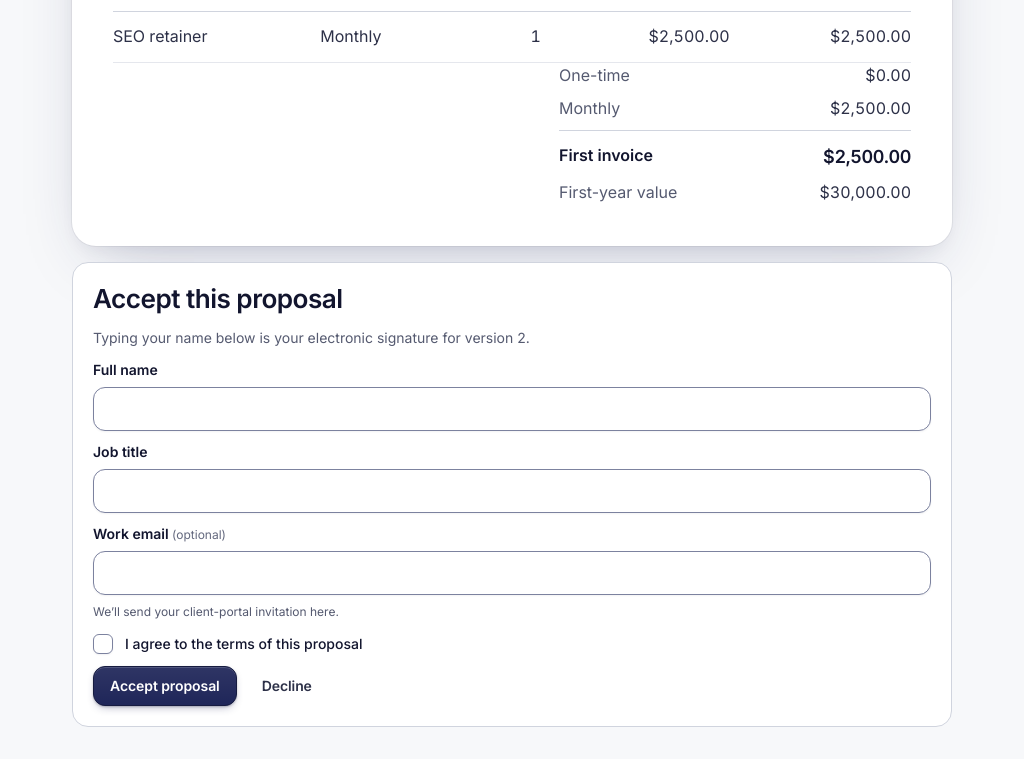
Scenario: Public proposal page › validates the typed signature and terms before sending, then accepts
(page scrolled)
Click the button "Accept proposal" at (165, 686), box [93, 666, 237, 706]
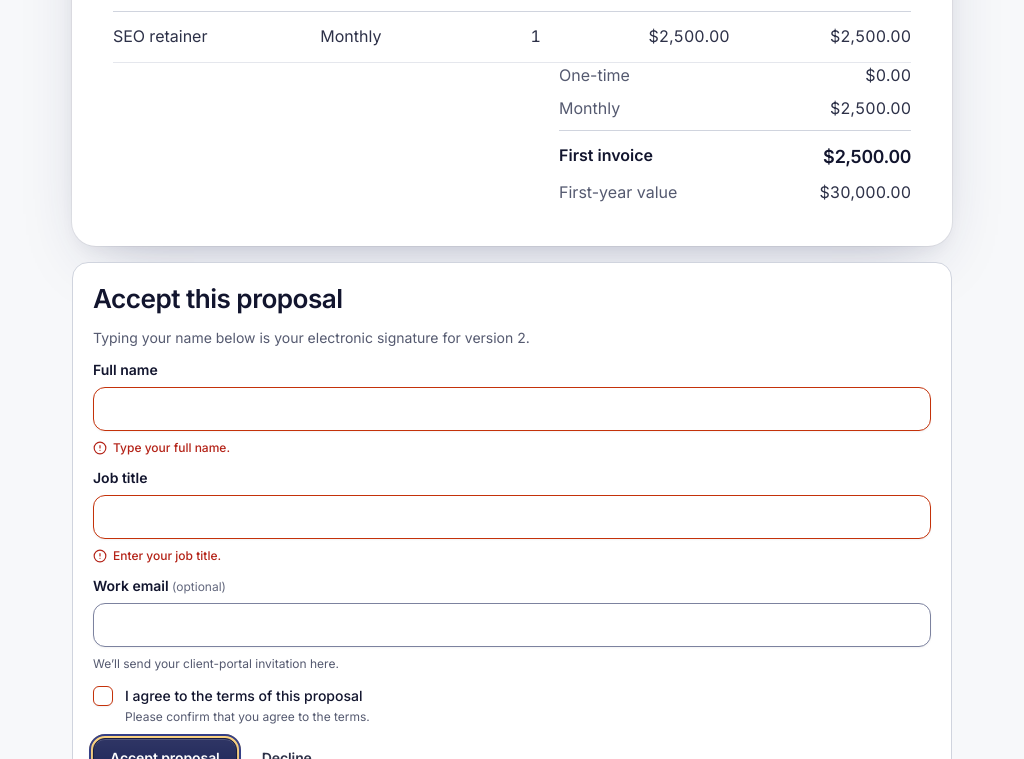
Check: the text "Type your full name." is shown, box [113, 439, 230, 457]
Check: the text "Enter your job title." is shown, box [113, 547, 221, 565]
Check: the text "Please confirm that you agree to the terms." is shown, box [125, 708, 370, 726]
Type "Rachel Nguyen" into the field labelled "Full name" at (512, 409), box [93, 387, 931, 431]
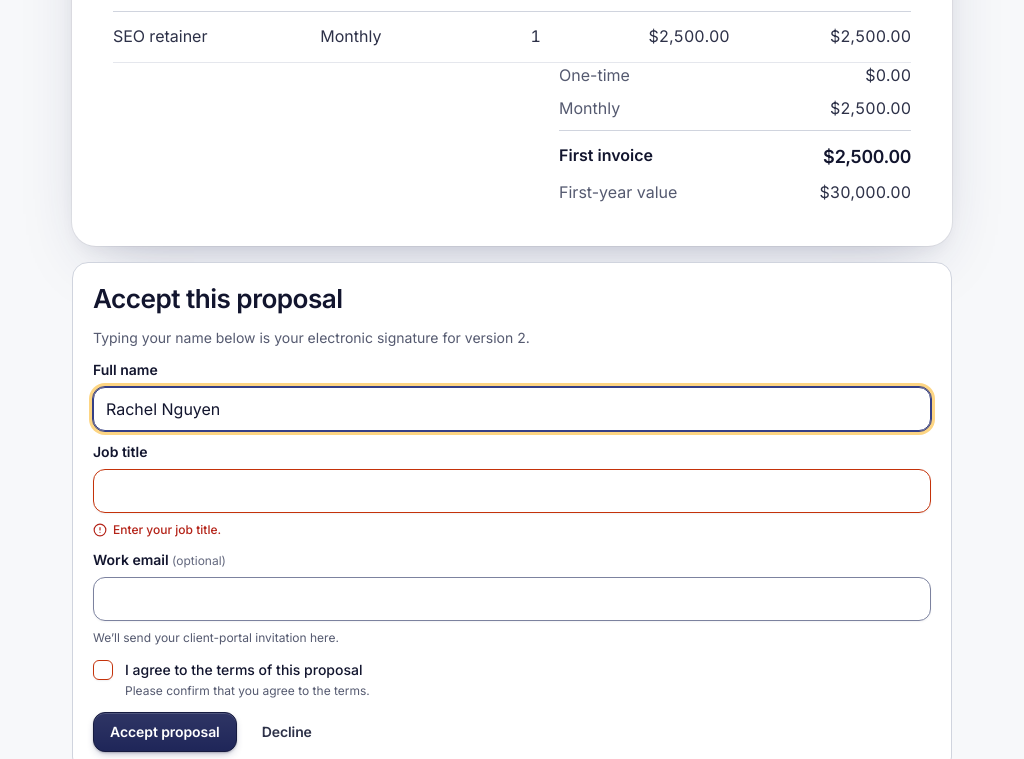
Type "Practice Manager" into the field labelled "Job title" at (512, 491), box [93, 469, 931, 513]
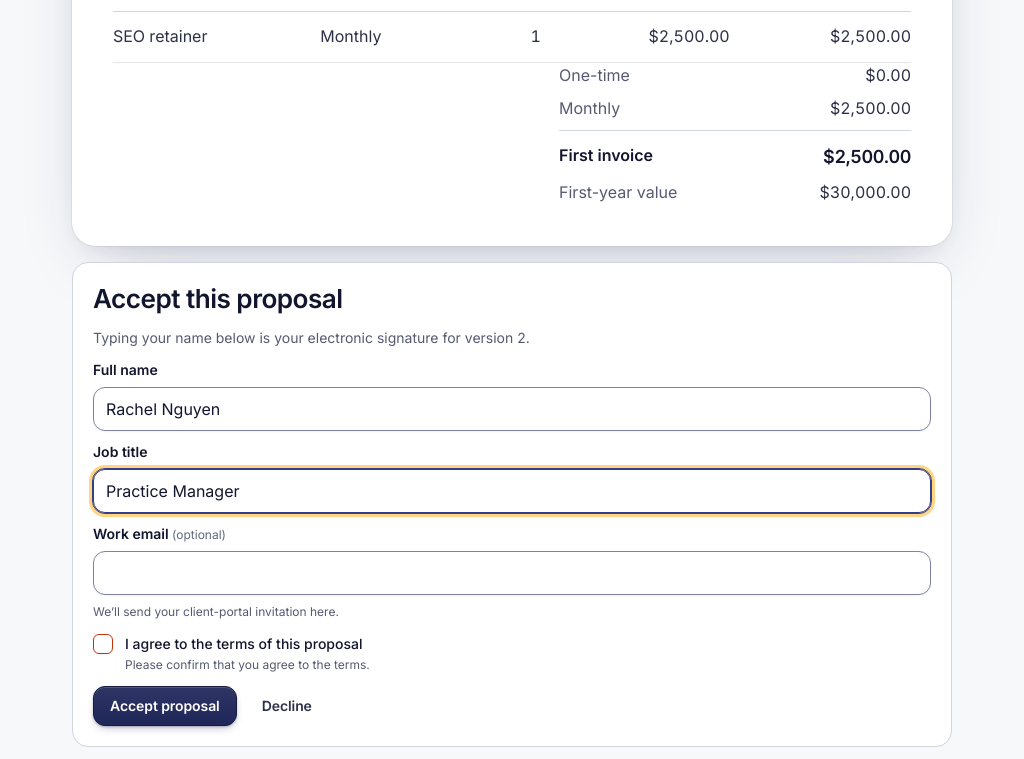
Click the checkbox labelled "I agree to the terms" at (103, 644), box [93, 634, 113, 654]
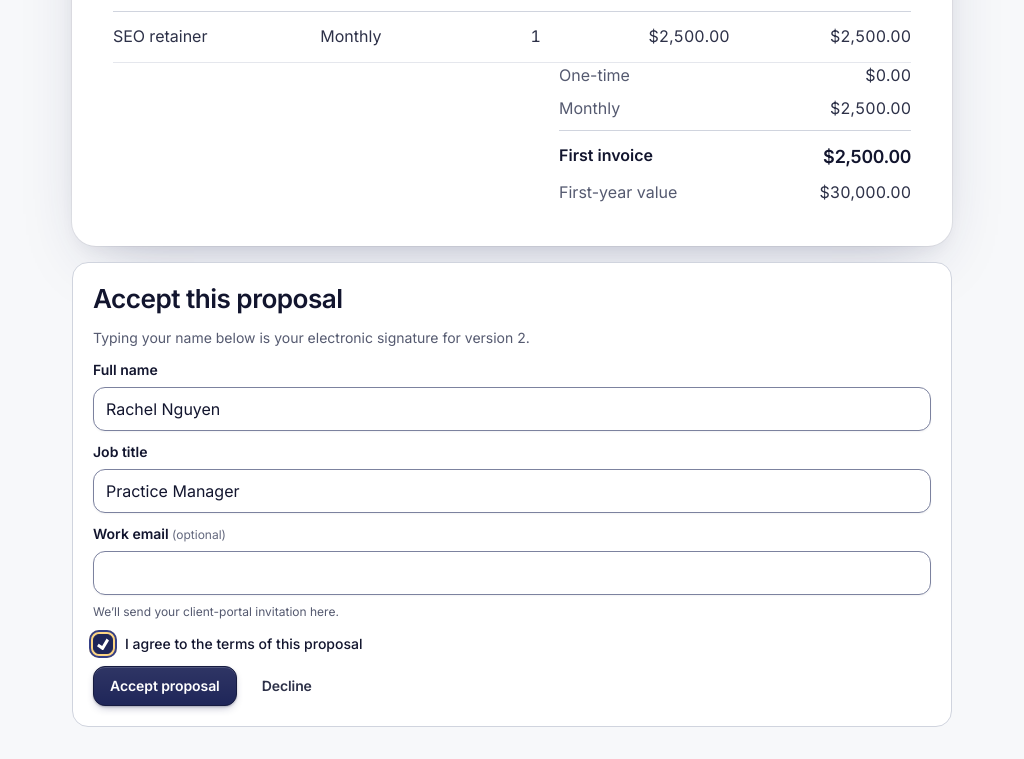
Click the button "Accept proposal" at (165, 686), box [93, 666, 237, 706]
(page scrolled)
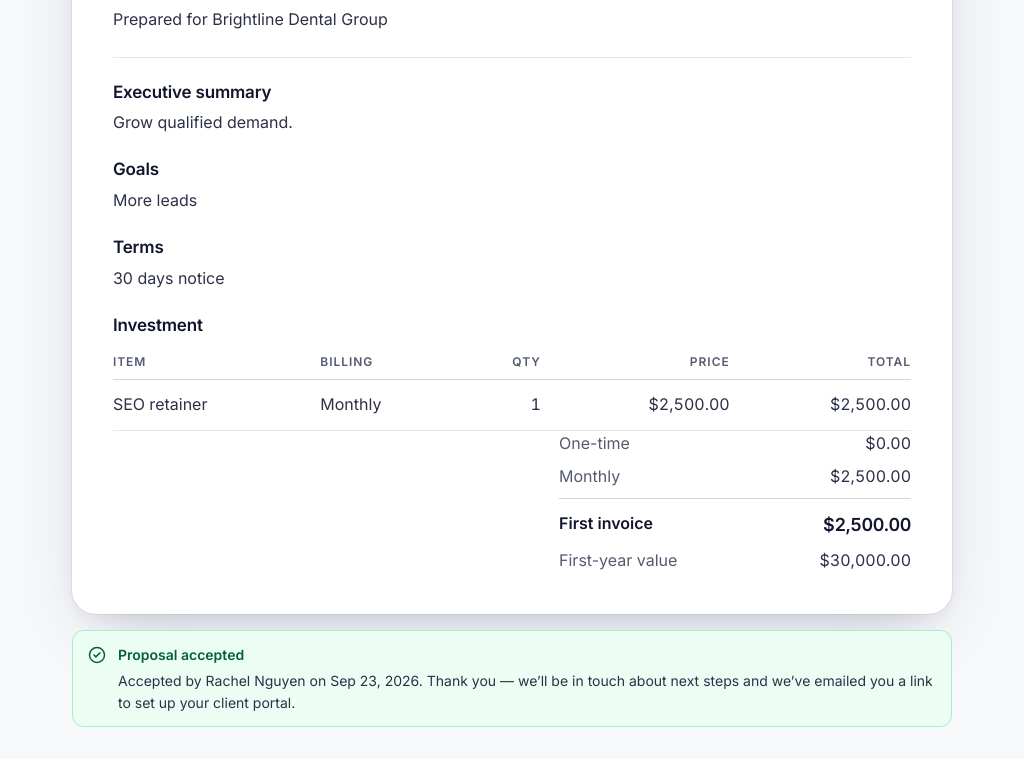
Check: the text "Accepted by Rachel Nguyen" is shown, box [118, 670, 936, 713]
